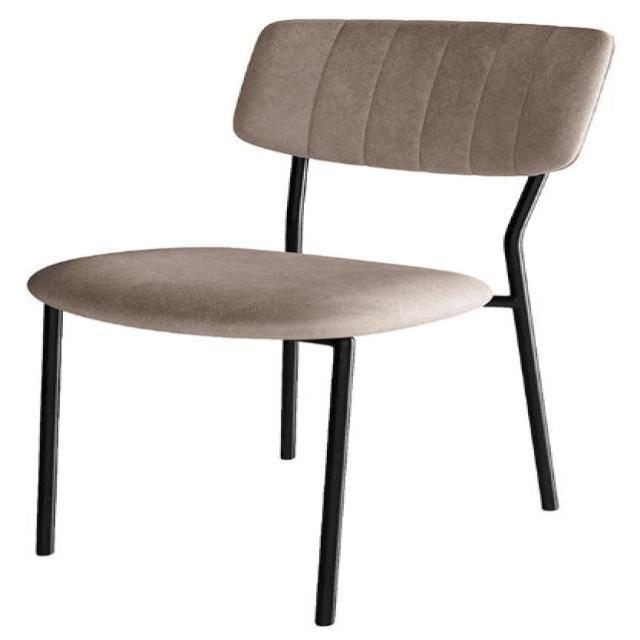chair: (18, 10, 625, 624), (23, 19, 620, 340)
